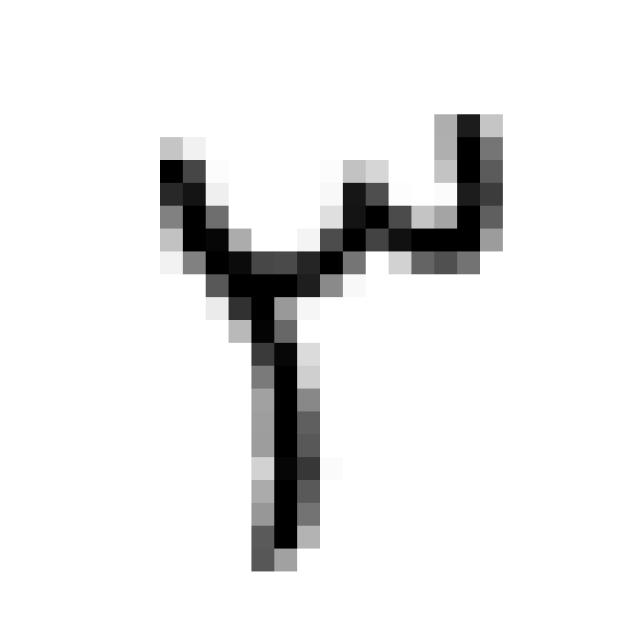3 -three-: (142, 89, 524, 577)
